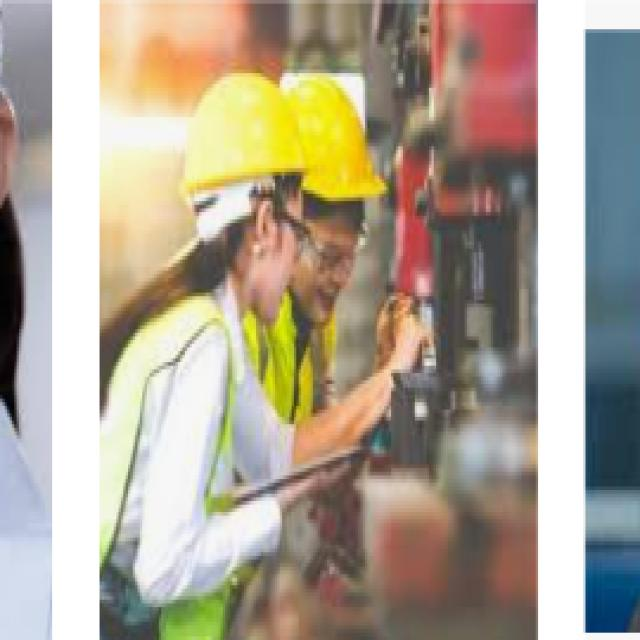glasses: (314, 225, 377, 269), (273, 182, 306, 252)
